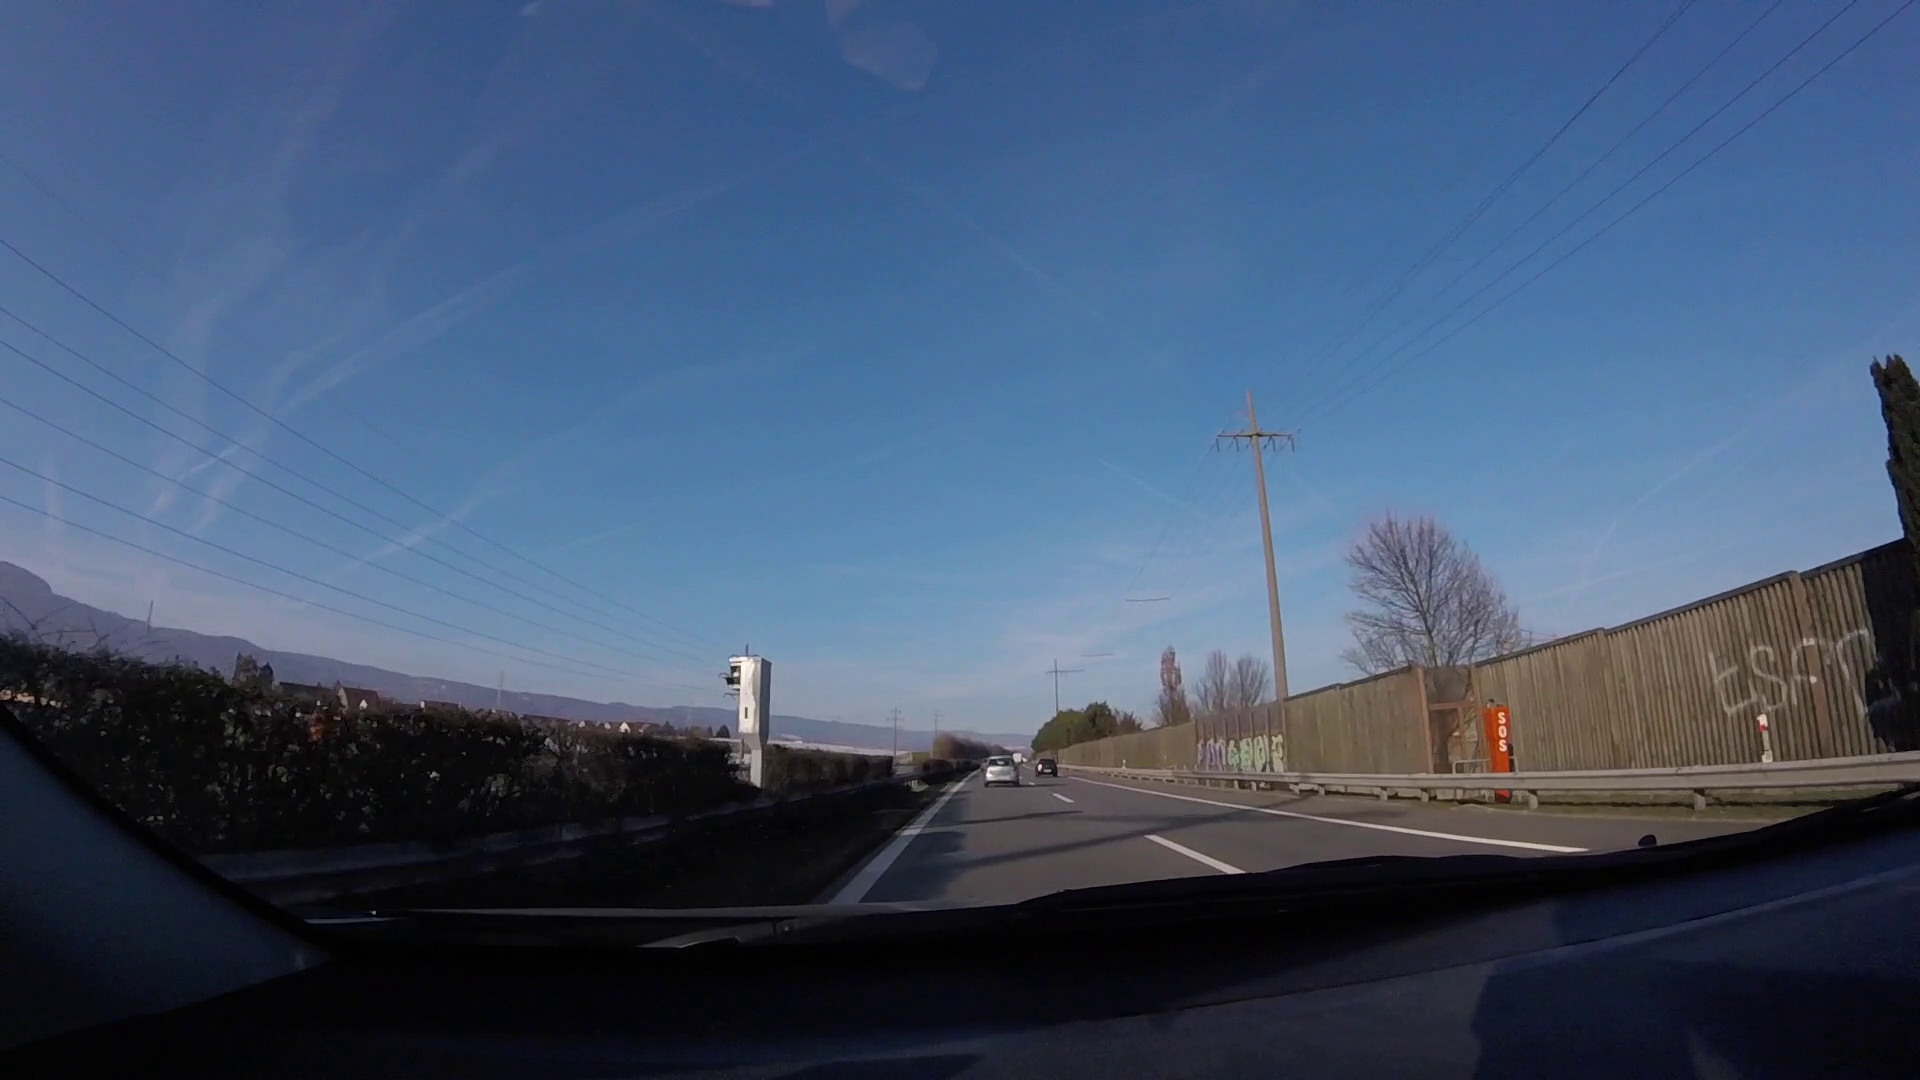radar: (725, 654, 773, 793)
